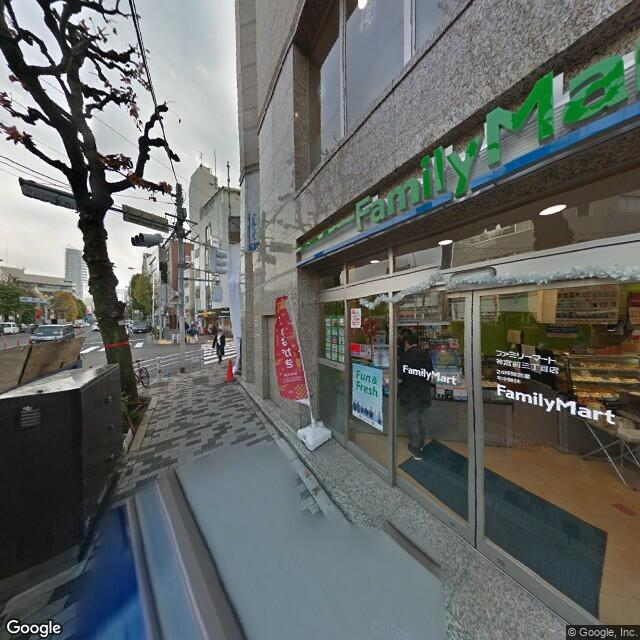family_mart: (347, 38, 638, 246), (492, 381, 618, 432), (399, 353, 455, 388)
